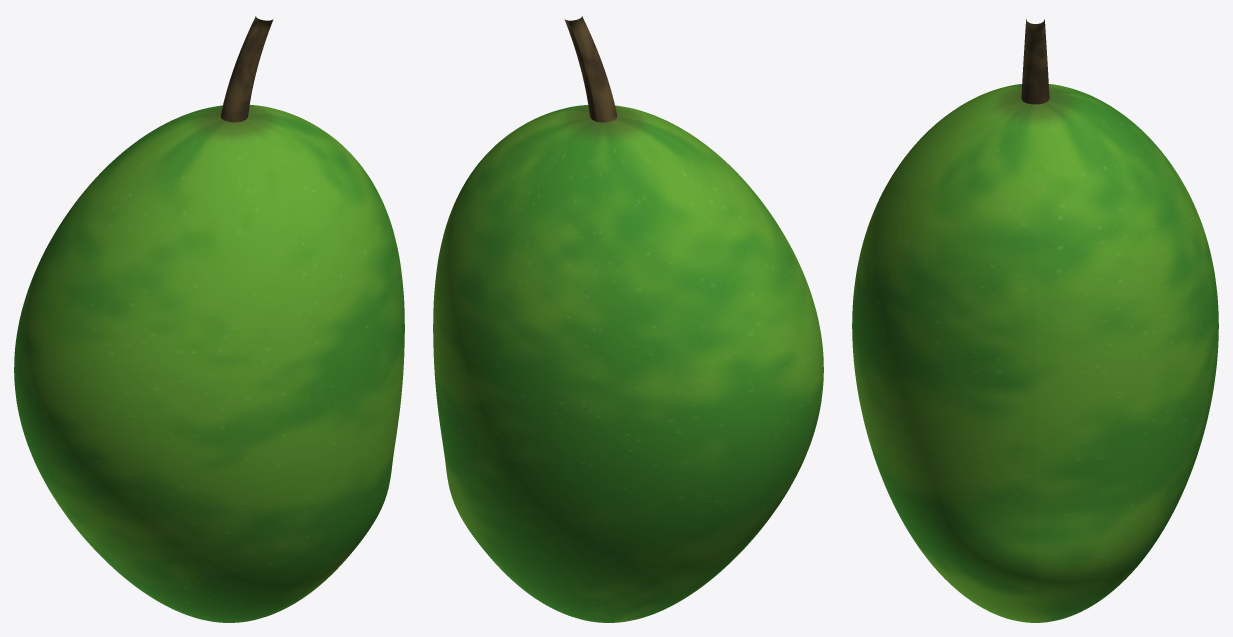
The model's file is mangue-verte.glb.
3 views of the same model, side by side, from view 1: azimuth 30°, elevation 25°; view 2: azimuth 150°, elevation 25°; view 3: azimuth 270°, elevation 25° (orthographic). The views are drawn at different scales.
Visible parts, largest first — view 1: entier_peau, moitie_A_peau, moitie_B_peau, entier_extra0; view 2: entier_peau, moitie_B_peau, moitie_A_peau, entier_extra0; view 3: entier_peau, moitie_A_peau, moitie_B_peau, entier_extra0.
Part boxes in pixels (x1,y1,x2,y2): entier_peau: [14, 105, 404, 622]; moitie_A_peau: [37, 114, 404, 622]; moitie_B_peau: [14, 105, 315, 577]; entier_extra0: [220, 16, 273, 122]; entier_peau: [433, 105, 823, 622]; moitie_B_peau: [433, 113, 800, 622]; moitie_A_peau: [520, 105, 823, 577]; entier_extra0: [564, 16, 617, 122]; entier_peau: [852, 84, 1218, 622]; moitie_A_peau: [852, 84, 1034, 622]; moitie_B_peau: [1036, 85, 1218, 622]; entier_extra0: [1021, 19, 1049, 104].
Bounding box in the file's own units: 0.0801 × 0.13 × 0.0707.
Materials: 3 (3 with a texture image).
